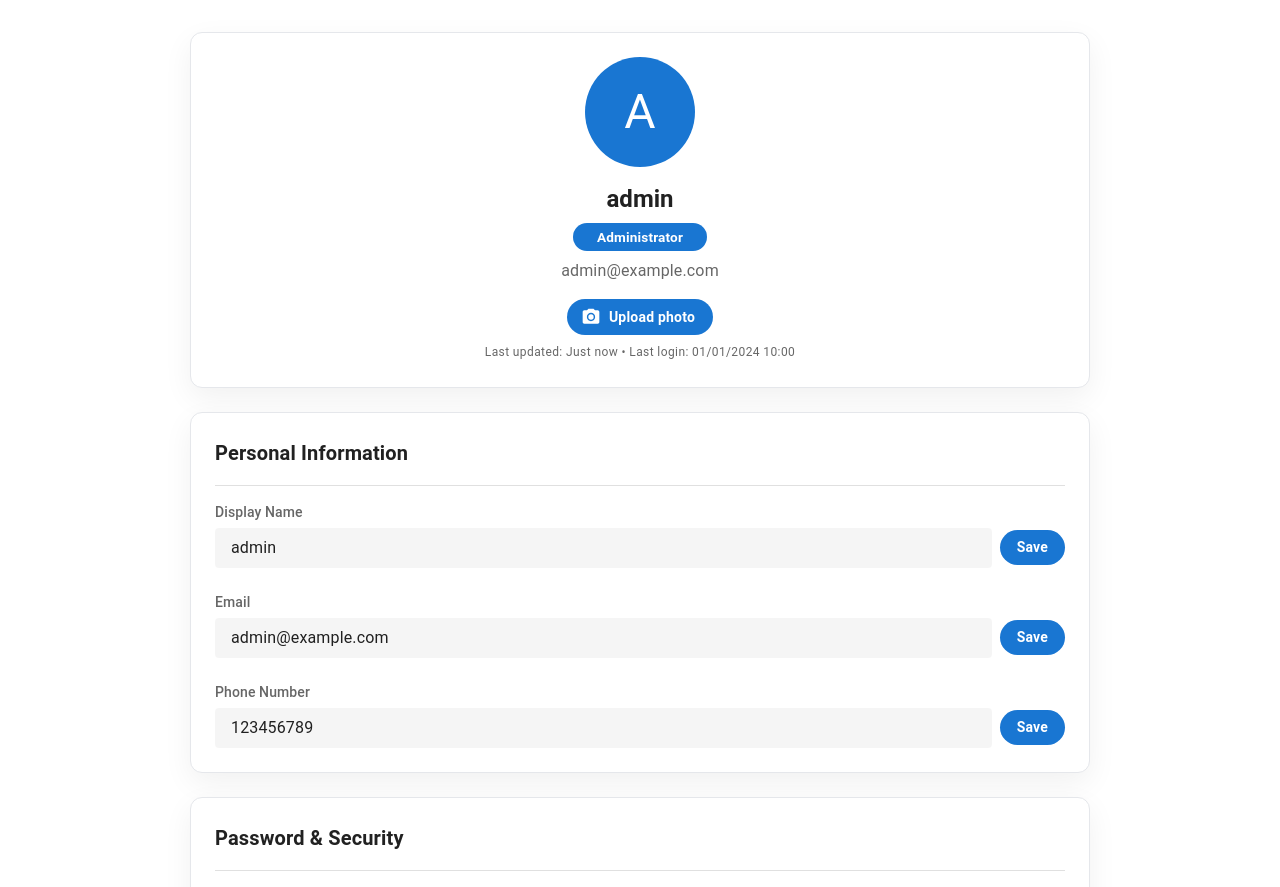
Test: AdminProfile › updates display name and saves profile
This screenshot has width=1280, height=887.
Replace the text in the field showing "admin" below "Display Name" with "new-admin". click: point(603, 548)
box: [231,536,976,559]
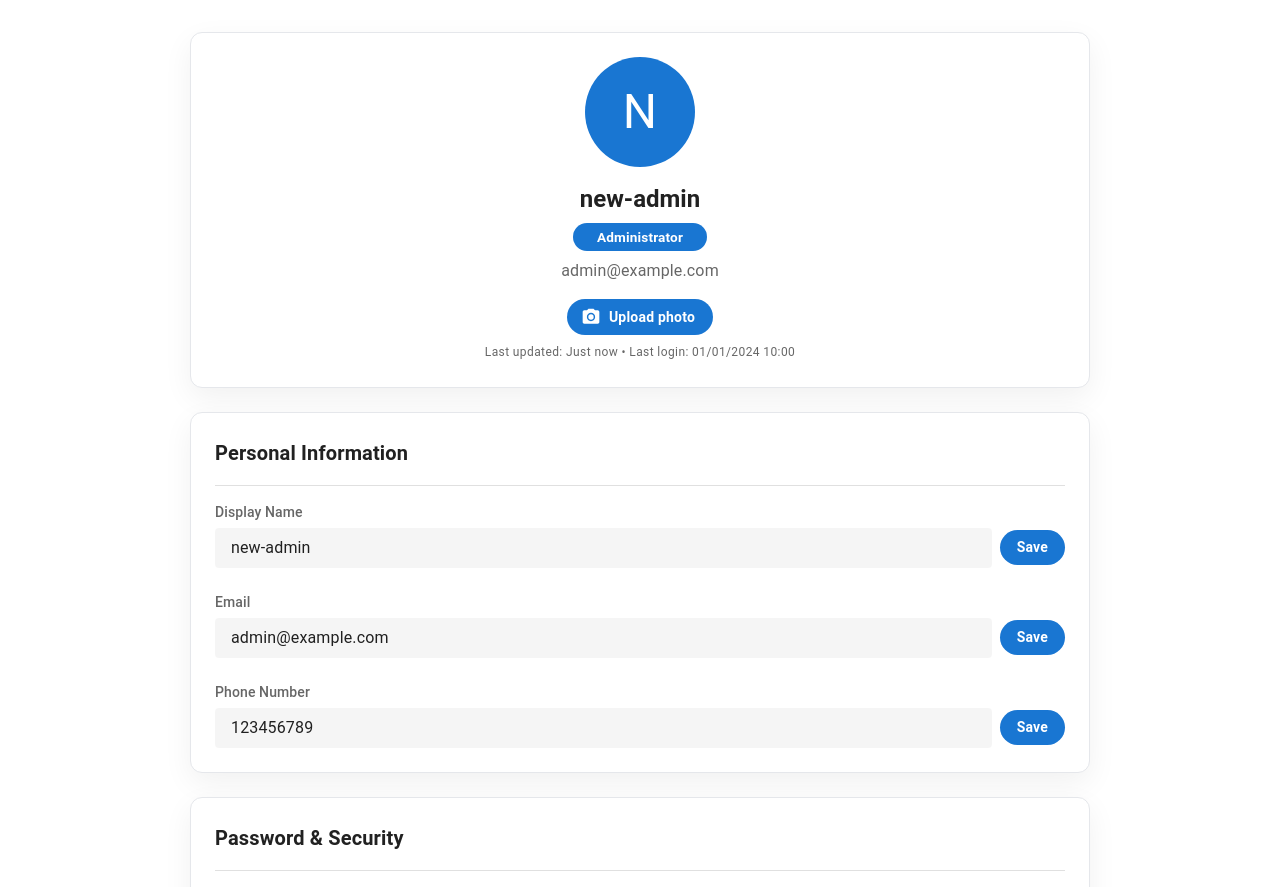
Click the 1st button "Save". click: point(1032, 548)
box: [1000,530,1065,565]
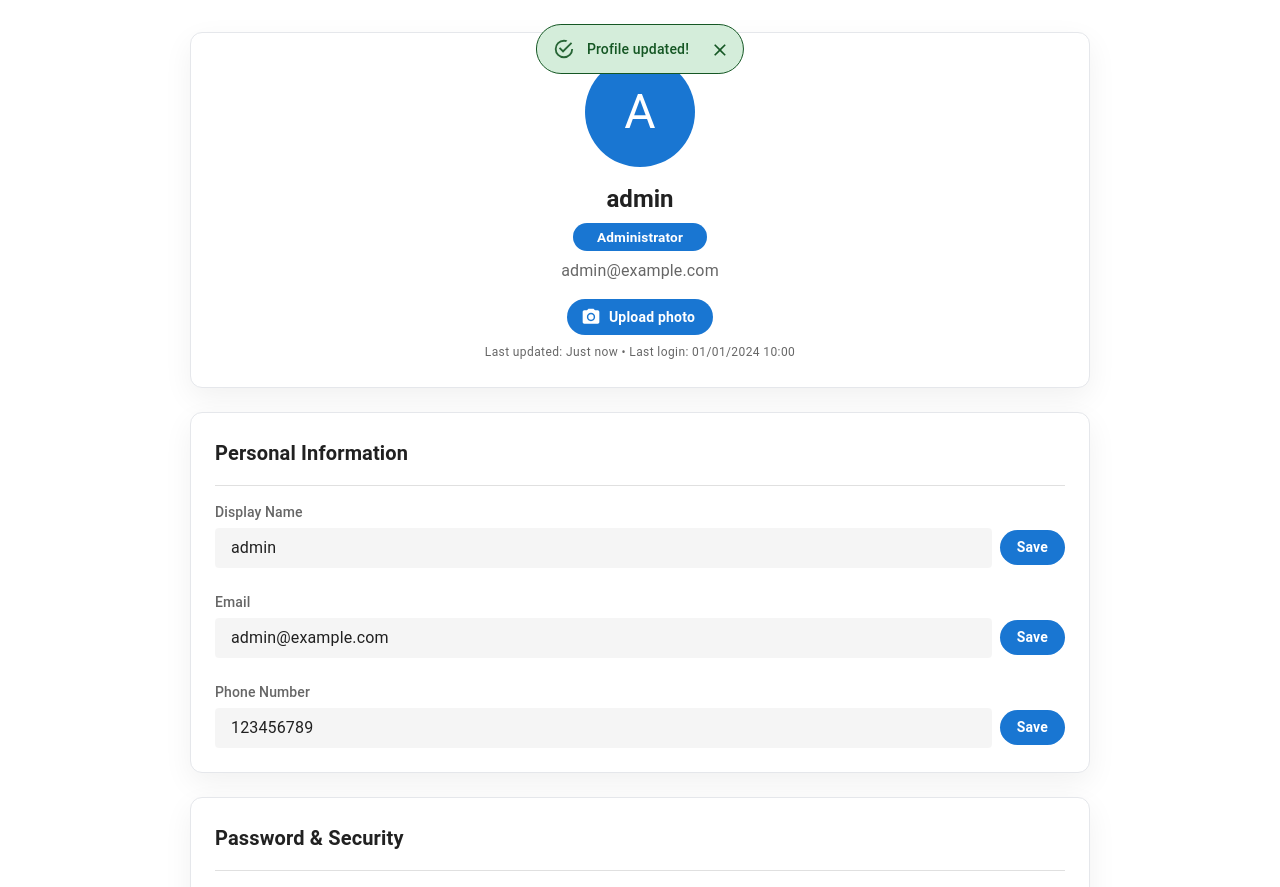
Expected: the text "Profile updated!" is shown, [587,41,689,57]
